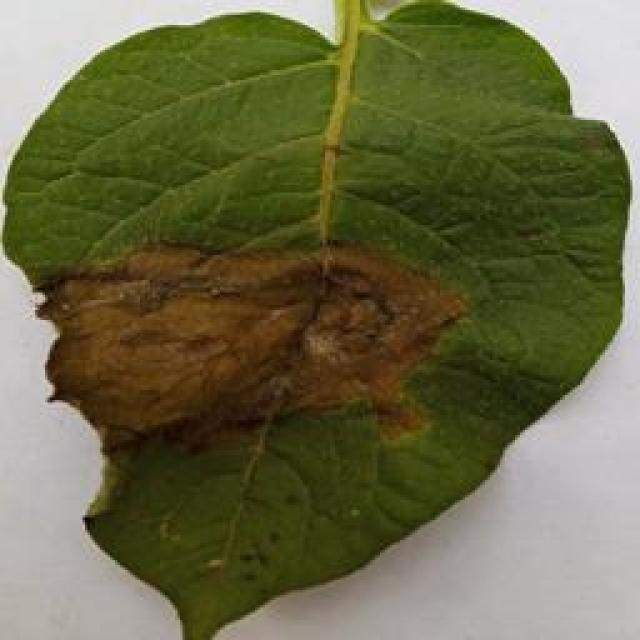Potato_Late_Blight: (4, 15, 629, 632)
